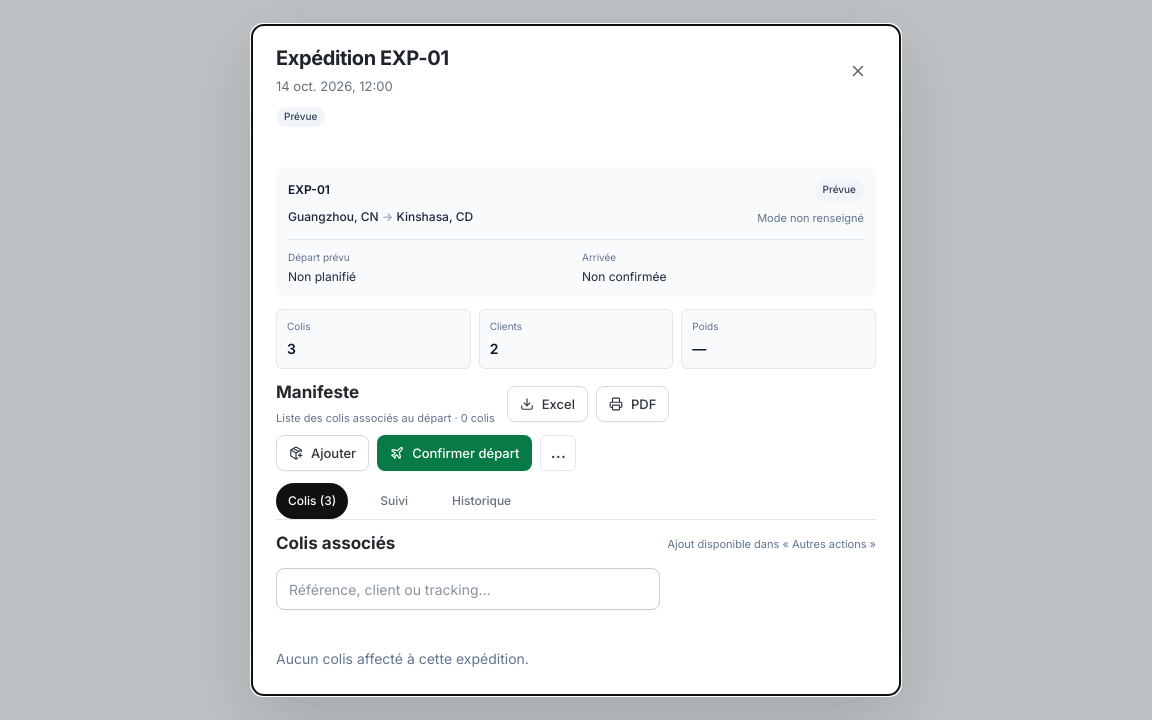
Test: Fiche Expédition fret › affiche une fiche unique compacte avec progression, colis, manifeste et historique
The image size is (1152, 720).
Expected: the text "EXP-01" is shown, x1=288 y1=182 x2=330 y2=198
Expected: the navigation bar named "Vues de l’expédition" is shown, x1=276 y1=483 x2=876 y2=520
Click the button "Suivi".
click(394, 501)  # box x1=368 y1=483 x2=420 y2=519
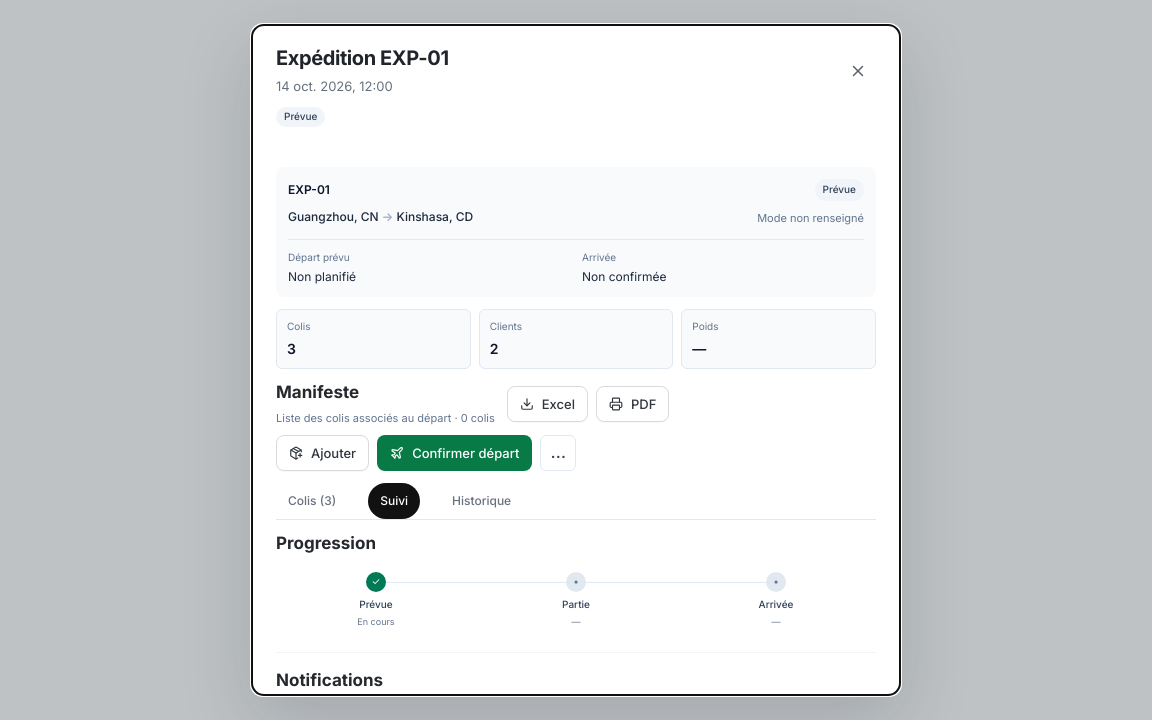
Expected: the heading "Progression" is shown, x1=276 y1=534 x2=376 y2=554
Click the button "Historique".
click(482, 501)  # box x1=440 y1=483 x2=523 y2=519
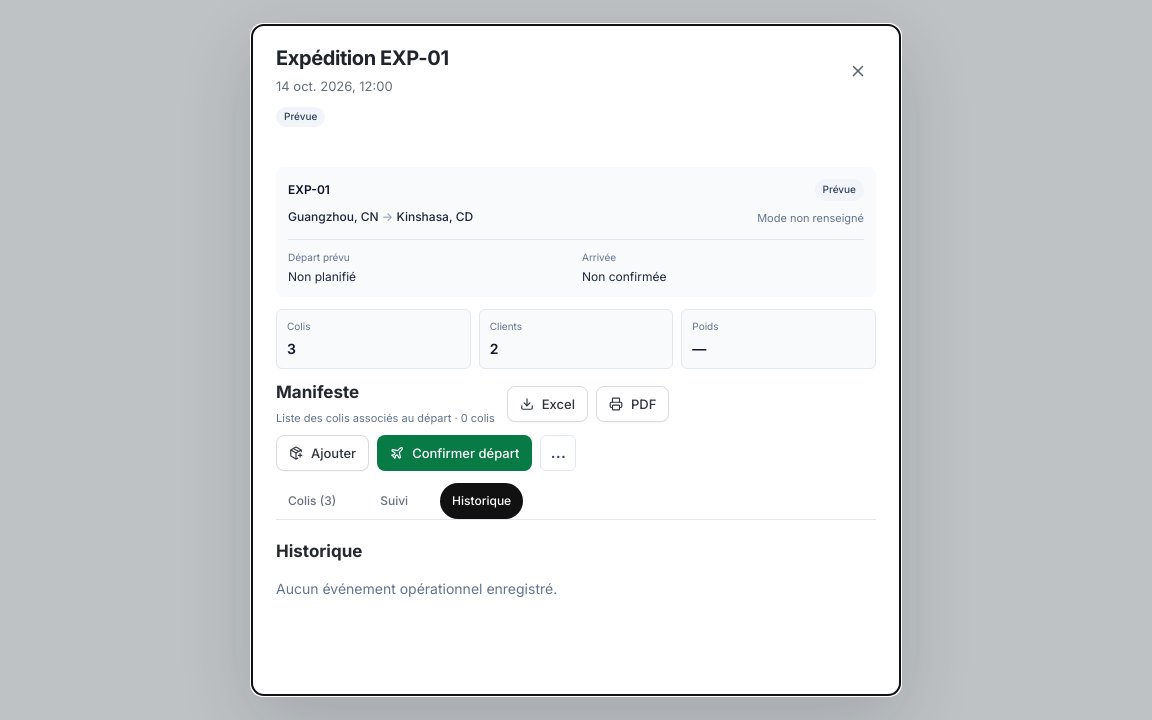
Expected: the button named "Fermer" is shown, x1=840 y1=53 x2=876 y2=89
Expected: the heading "Historique" is shown, x1=276 y1=542 x2=362 y2=562
